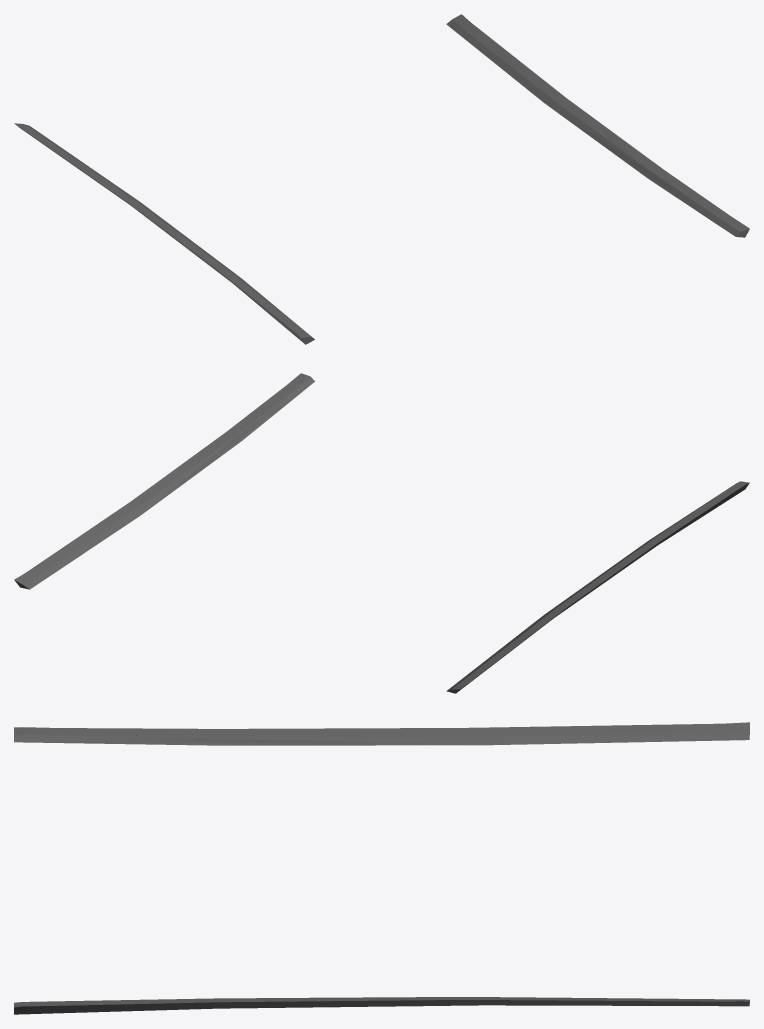
The model's file is Sport_2_Sidepanel_1.fbx.
3 renders of one model, top to bottom at view 1: azimuth 30°, elevation 25°; view 2: azimuth 150°, elevation 25°; view 3: azimuth 270°, elevation 25°, orthographic. The views are drawn at different scales.
Visible parts, largest first — view 1: Sport_2_Sidepanel_1; view 2: Sport_2_Sidepanel_1; view 3: Sport_2_Sidepanel_1.
Part boxes in pixels (left/top/right/bottom): Sport_2_Sidepanel_1: left=14, top=14, right=749, bottom=344; Sport_2_Sidepanel_1: left=14, top=373, right=749, bottom=693; Sport_2_Sidepanel_1: left=14, top=722, right=749, bottom=1014.
Bounding box in the file's own units: 174 × 4.45 × 193.
